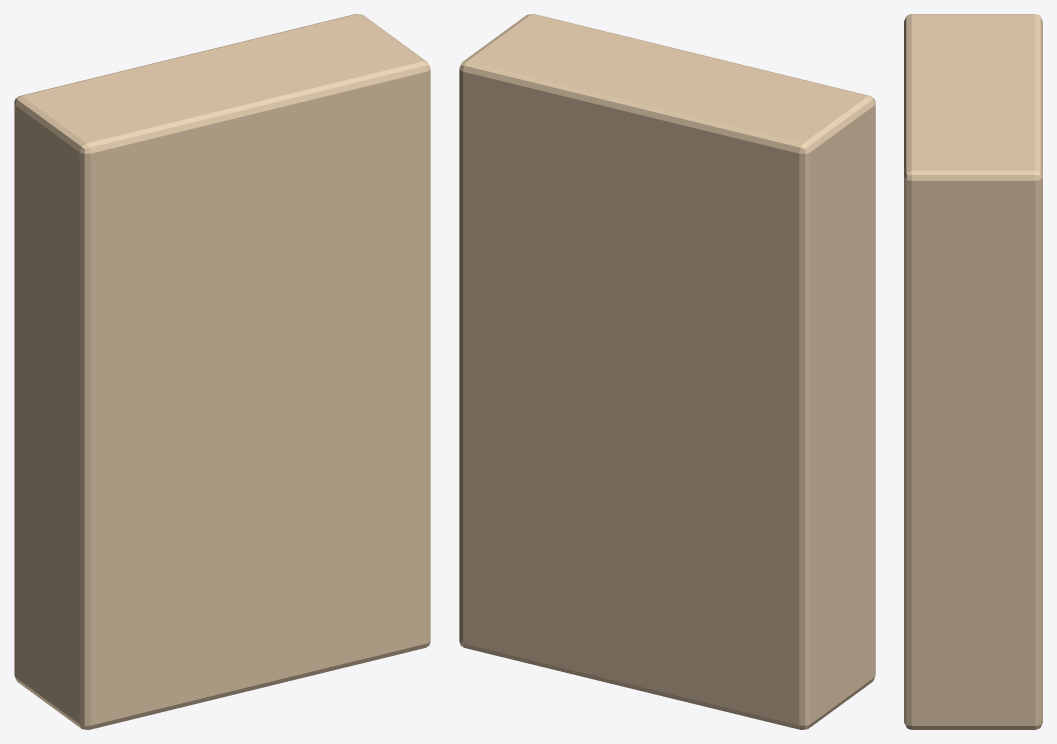
The model's file is estante.glb.
The picture shows the model from 3 angles, left to right: view 1: azimuth 30°, elevation 25°; view 2: azimuth 150°, elevation 25°; view 3: azimuth 270°, elevation 25°; orthographic projection. The views are drawn at different scales.
Visible parts, largest first — view 1: estante; view 2: estante; view 3: estante.
Boxes of the visible parts, left/top/right/bottom form: estante: left=14, top=14, right=430, bottom=729; estante: left=459, top=14, right=875, bottom=729; estante: left=904, top=14, right=1042, bottom=729.
Bounding box in the file's own units: 1 × 1.6 × 0.36.
